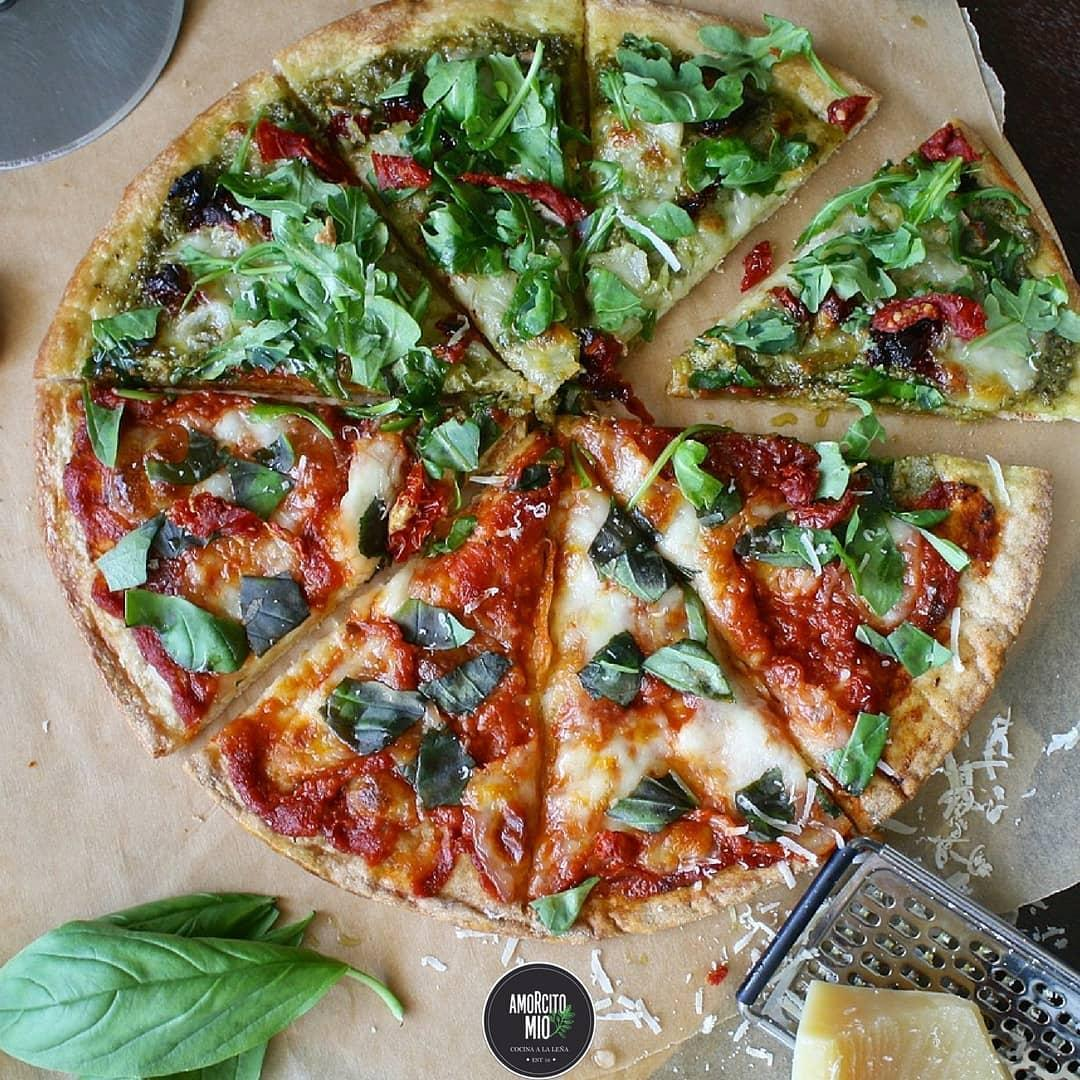Arugula: (128, 586, 239, 690), (78, 513, 180, 587), (63, 386, 142, 479), (236, 576, 329, 654), (406, 406, 497, 482), (313, 681, 412, 749), (583, 516, 664, 599), (841, 611, 951, 670), (668, 431, 736, 522), (213, 451, 294, 527), (831, 516, 897, 609), (818, 708, 887, 794), (388, 588, 480, 652), (738, 506, 819, 574), (516, 871, 605, 929), (648, 648, 729, 709), (608, 776, 692, 830), (433, 656, 500, 719), (408, 736, 465, 810), (731, 766, 789, 837), (576, 638, 640, 700), (918, 516, 976, 569), (813, 441, 854, 502)
Basil: (783, 166, 972, 297), (603, 23, 809, 131), (178, 231, 362, 314), (428, 51, 554, 134), (976, 278, 1067, 389), (308, 291, 414, 385), (431, 193, 554, 267), (576, 161, 682, 246), (676, 128, 801, 194), (223, 166, 337, 237), (448, 123, 562, 174), (196, 326, 300, 379), (88, 293, 165, 364), (498, 261, 565, 336), (583, 266, 645, 346)
Pizza: (46, 0, 1072, 935)
Tomatoes: (458, 161, 579, 227), (386, 466, 452, 554), (876, 293, 987, 337), (248, 106, 324, 162), (353, 146, 434, 197), (173, 498, 264, 539), (908, 571, 959, 625), (826, 86, 869, 137), (923, 126, 969, 171)
